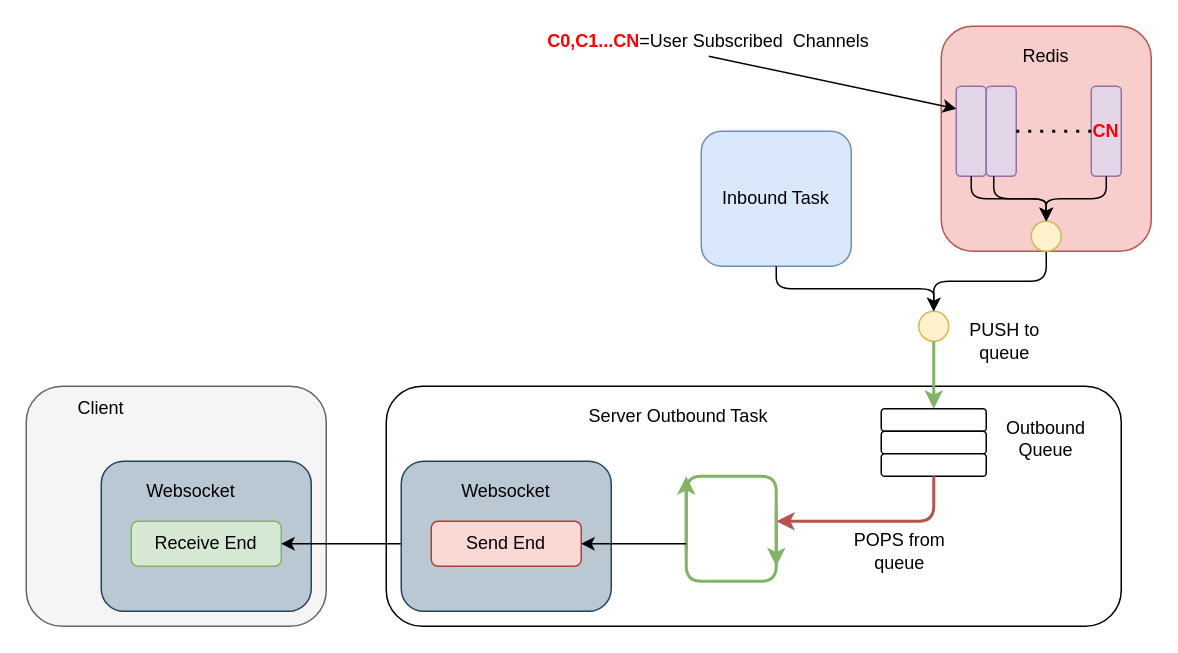
Image size: 1178x653. Some labels were removed from this diagram. Each missing label, with the centre of its shape:
C0: the point at 970,130
C1: the point at 1000,130
